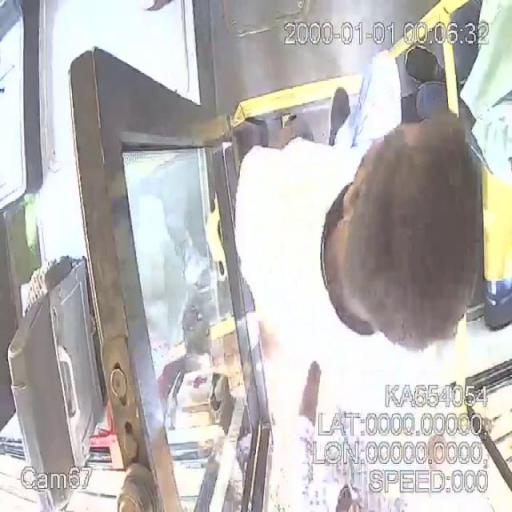persona: (228, 40, 486, 374)
